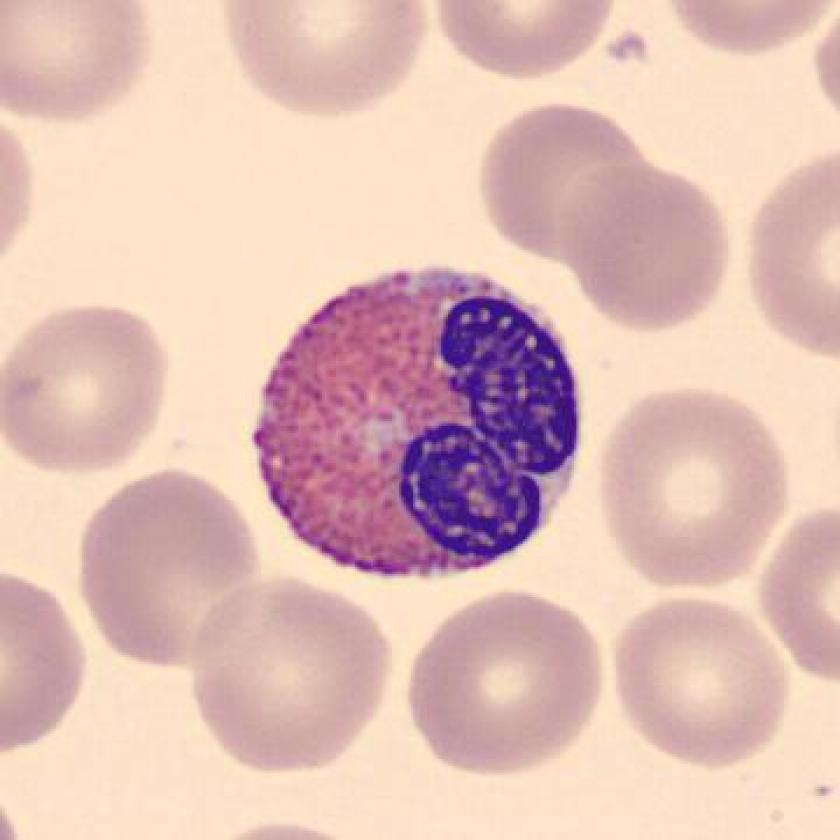eosinophil: (241, 253, 596, 591)
